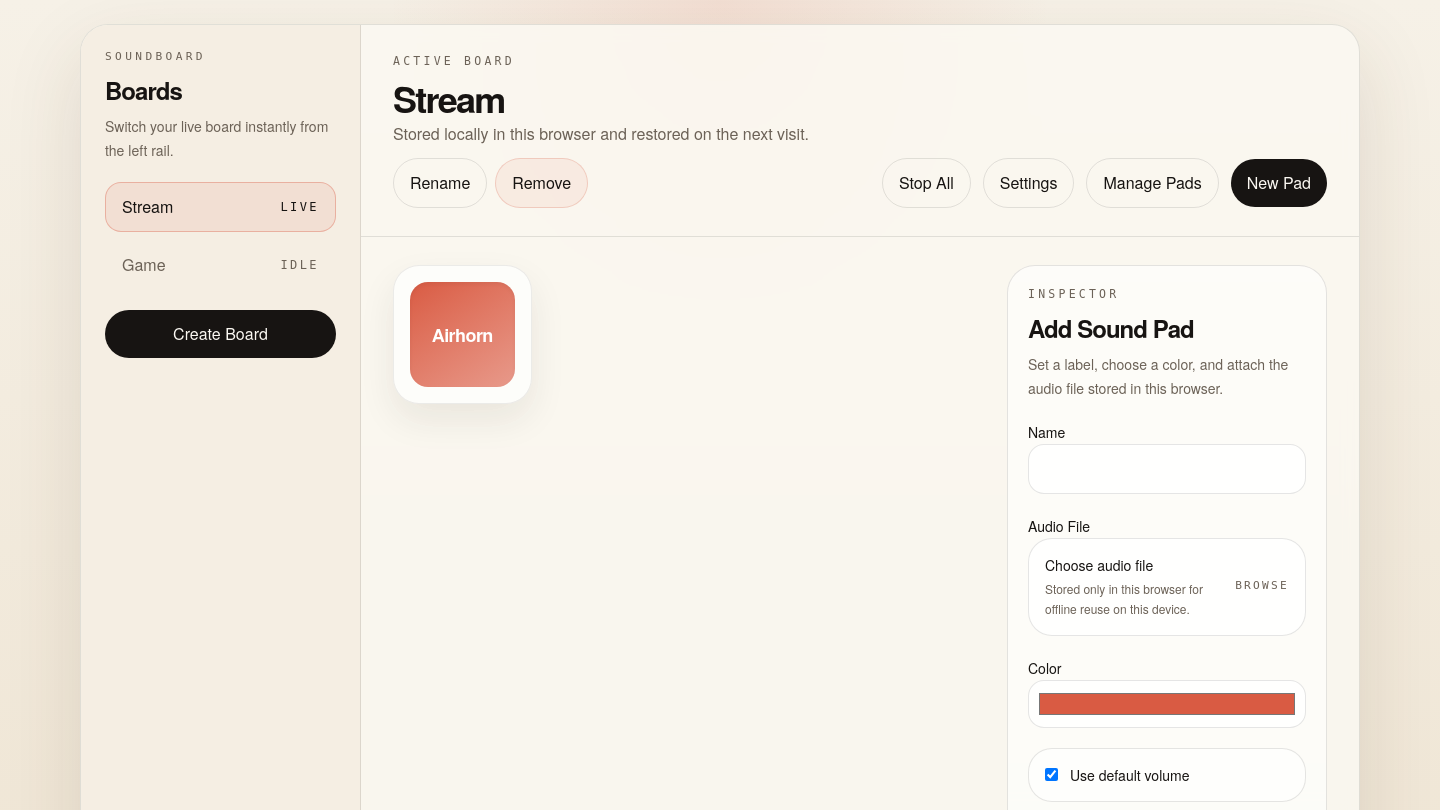
Test: SoundboardApp › discards a dirty draft when confirmation is accepted during board switching
Step 1. Type "Draft pad" into the field labelled "Name" → (1167, 468), box [1028,444,1306,494]
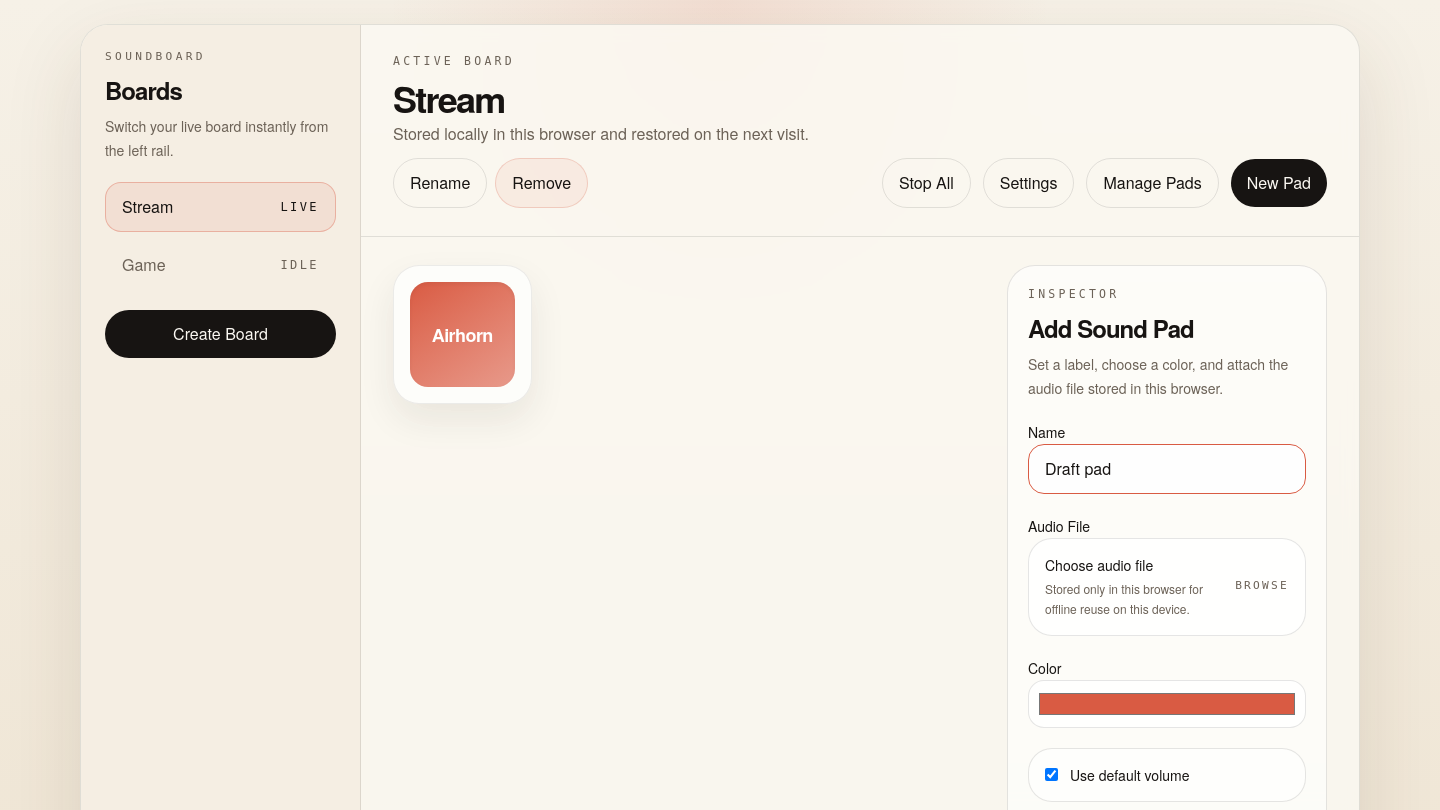
Step 2. Click the button "Game Idle" → (220, 265), box [105,240,336,290]
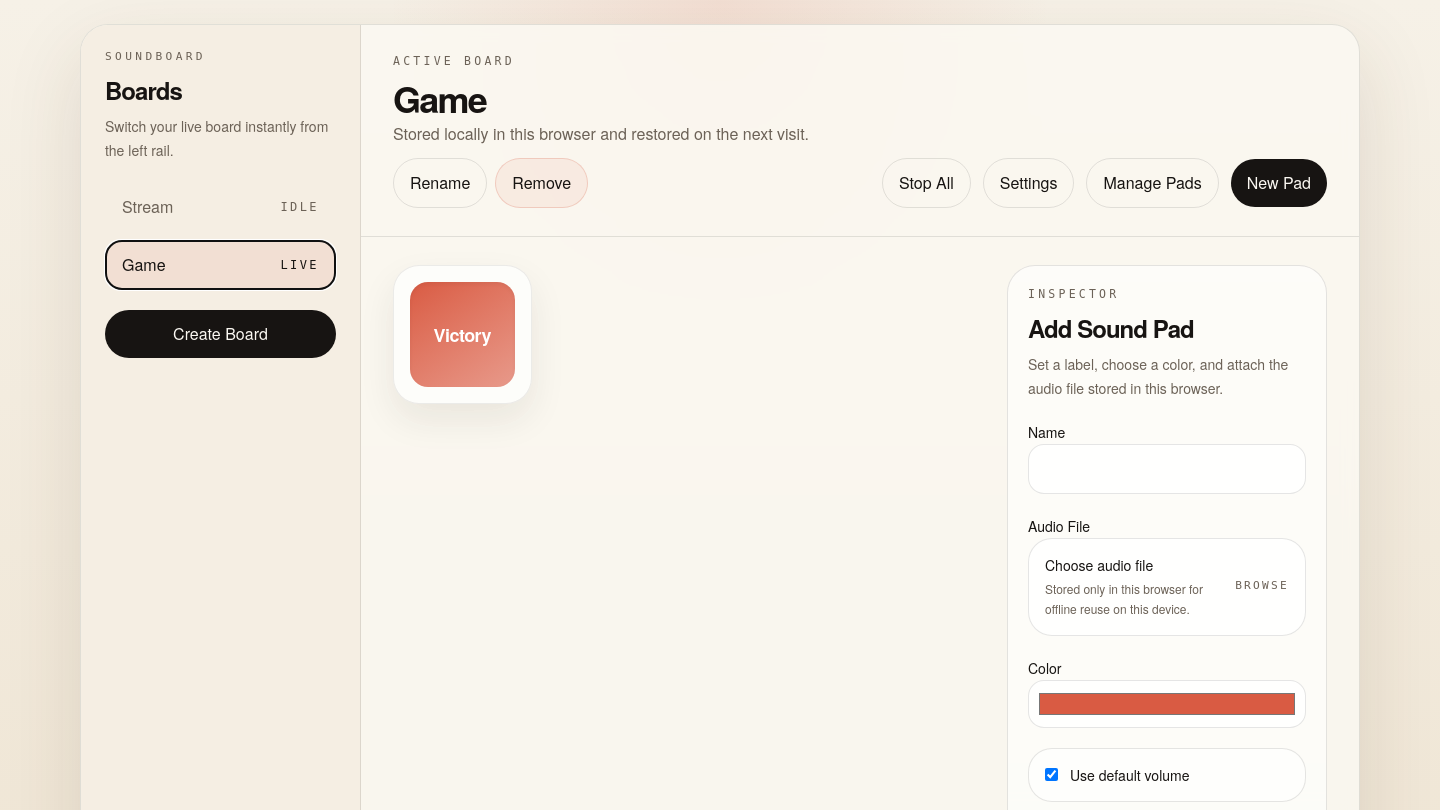
Result: the heading "Game" is shown at [393,72,486,124]
Result: the field labelled "Name" is empty at [1028,444,1306,494]
